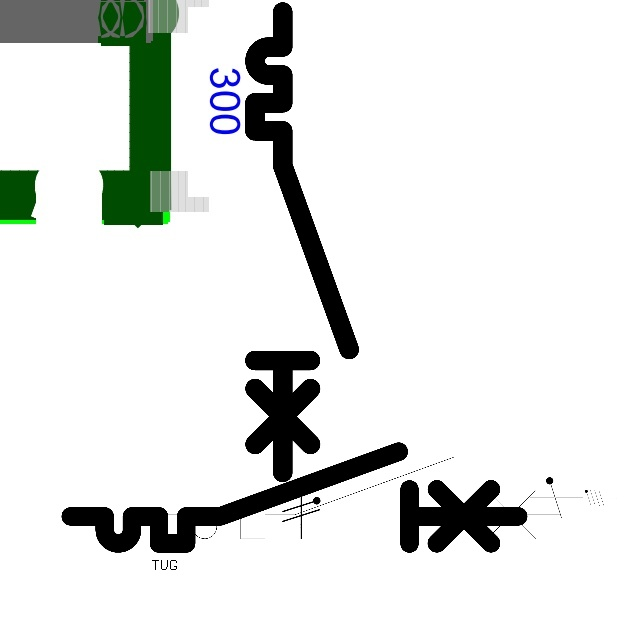interruptor_termomagnetico: (243, 0, 361, 484), (59, 440, 530, 555), (152, 447, 569, 549)
